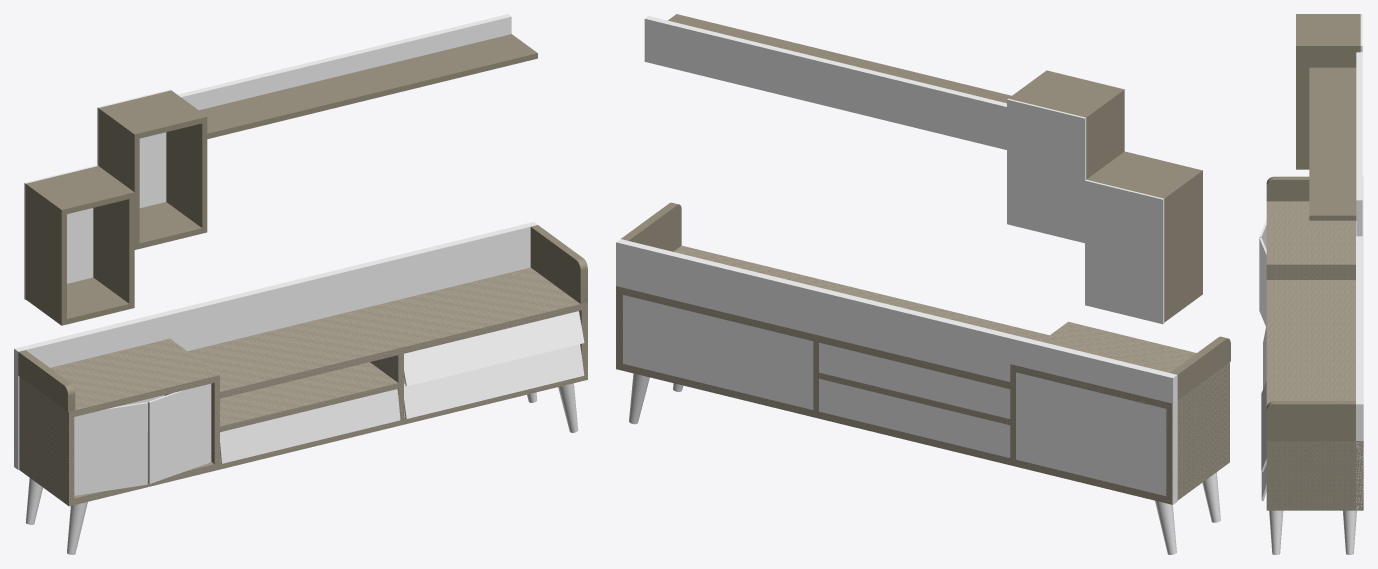
File: television_unit.glb
3 views of the same model, side by side, from view 1: azimuth 30°, elevation 25°; view 2: azimuth 150°, elevation 25°; view 3: azimuth 270°, elevation 25° (orthographic). The views are drawn at different scales.
Parts seen in each view (by area): view 1: Rectangle002, Rectangle008, Rectangle011, Rectangle012, Rectangle016, Rectangle015, Rectangle007, Rectangle003, Rectangle004, Rectangle005, Rectangle006, Rectangle010 (+3 smaller); view 2: Rectangle008, Rectangle002, Rectangle015, Rectangle013, Rectangle014, Rectangle011, Rectangle012, Rectangle016, Rectangle009, Rectangle010; view 3: Rectangle002, Rectangle016, Rectangle012, Rectangle010, Rectangle008, Rectangle015, Rectangle009, Rectangle006, Cone002, Cone004, Rectangle003, Rectangle011 (+2 smaller).
Boxes of the visible parts, left/top/right/bottom form: Rectangle002: left=19, top=267, right=587, bottom=506; Rectangle008: left=14, top=222, right=537, bottom=469; Rectangle011: left=25, top=166, right=134, bottom=325; Rectangle012: left=98, top=90, right=207, bottom=249; Rectangle016: left=199, top=34, right=537, bottom=138; Rectangle015: left=178, top=14, right=511, bottom=110; Rectangle007: left=74, top=402, right=147, bottom=495; Rectangle003: left=404, top=311, right=584, bottom=386; Rectangle004: left=404, top=344, right=584, bottom=418; Rectangle005: left=220, top=389, right=400, bottom=463; Rectangle006: left=148, top=383, right=211, bottom=483; Rectangle010: left=530, top=225, right=587, bottom=303; Rectangle008: left=616, top=239, right=1177, bottom=504; Rectangle002: left=616, top=245, right=1229, bottom=504; Rectangle015: left=644, top=16, right=1006, bottom=149; Rectangle013: left=1085, top=179, right=1164, bottom=324; Rectangle014: left=1007, top=98, right=1086, bottom=243; Rectangle011: left=1086, top=151, right=1202, bottom=322; Rectangle012: left=1008, top=70, right=1124, bottom=179; Rectangle016: left=668, top=14, right=1011, bottom=103; Rectangle009: left=1170, top=336, right=1230, bottom=399; Rectangle010: left=621, top=202, right=681, bottom=251; Rectangle002: left=1266, top=201, right=1363, bottom=510; Rectangle016: left=1309, top=67, right=1356, bottom=220; Rectangle012: left=1296, top=14, right=1360, bottom=149; Rectangle010: left=1266, top=401, right=1355, bottom=440; Rectangle008: left=1356, top=176, right=1363, bottom=510; Rectangle015: left=1356, top=52, right=1362, bottom=236; Rectangle009: left=1266, top=176, right=1309, bottom=201; Rectangle006: left=1259, top=237, right=1266, bottom=326; Cone002: left=1269, top=510, right=1283, bottom=554; Cone004: left=1343, top=510, right=1356, bottom=554; Rectangle003: left=1261, top=381, right=1266, bottom=471; Rectangle011: left=1296, top=149, right=1309, bottom=169.
Size of the model in its own units: 98.37 by 71.15 by 19.06.
3 materials, 1 textured.
